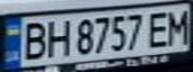5: (109, 12, 130, 52)
7: (124, 11, 148, 51), (90, 15, 112, 54)
8: (72, 16, 96, 56)
B: (15, 19, 51, 61)
E: (145, 8, 172, 48)
H: (42, 17, 72, 59)
M: (163, 6, 193, 46)
